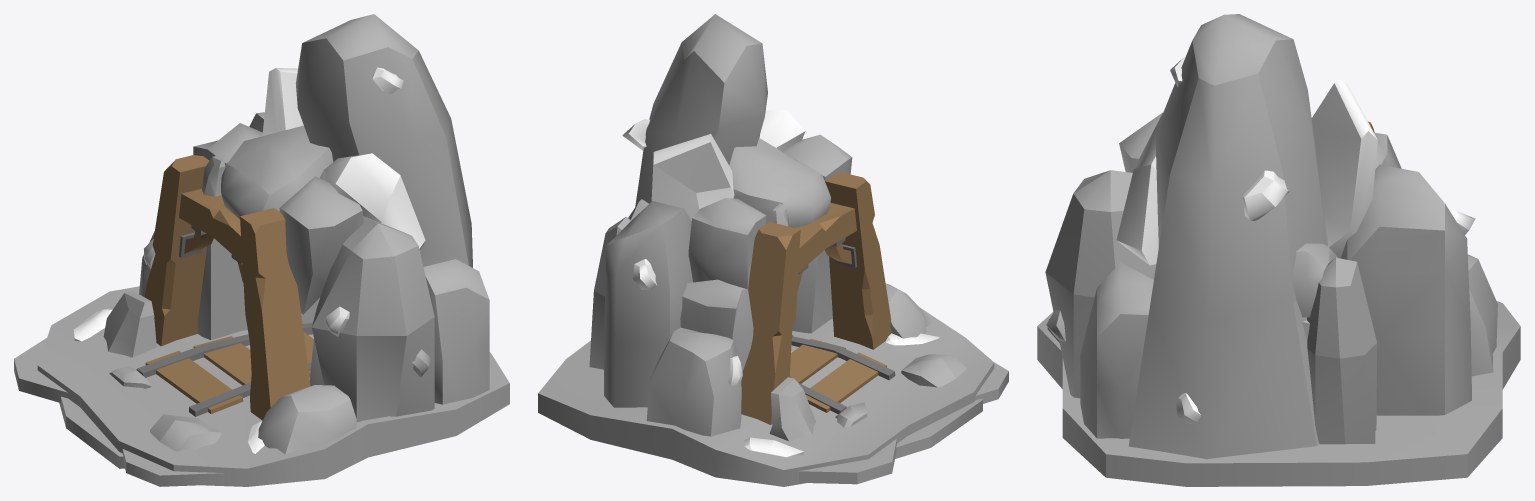
The model's file is GraniteMine.fbx.
3 views of the same model, side by side, from view 1: azimuth 30°, elevation 25°; view 2: azimuth 150°, elevation 25°; view 3: azimuth 270°, elevation 25° (orthographic). The views are drawn at different scales.
Parts seen in each view (by area): view 1: GraniteMine; view 2: GraniteMine; view 3: GraniteMine.
Part boxes in pixels (bbox=[...]): GraniteMine: bbox=[14, 14, 509, 486]; GraniteMine: bbox=[538, 14, 1008, 486]; GraniteMine: bbox=[1037, 14, 1520, 486].
Size of the model in its own units: 317 by 302 by 314.
